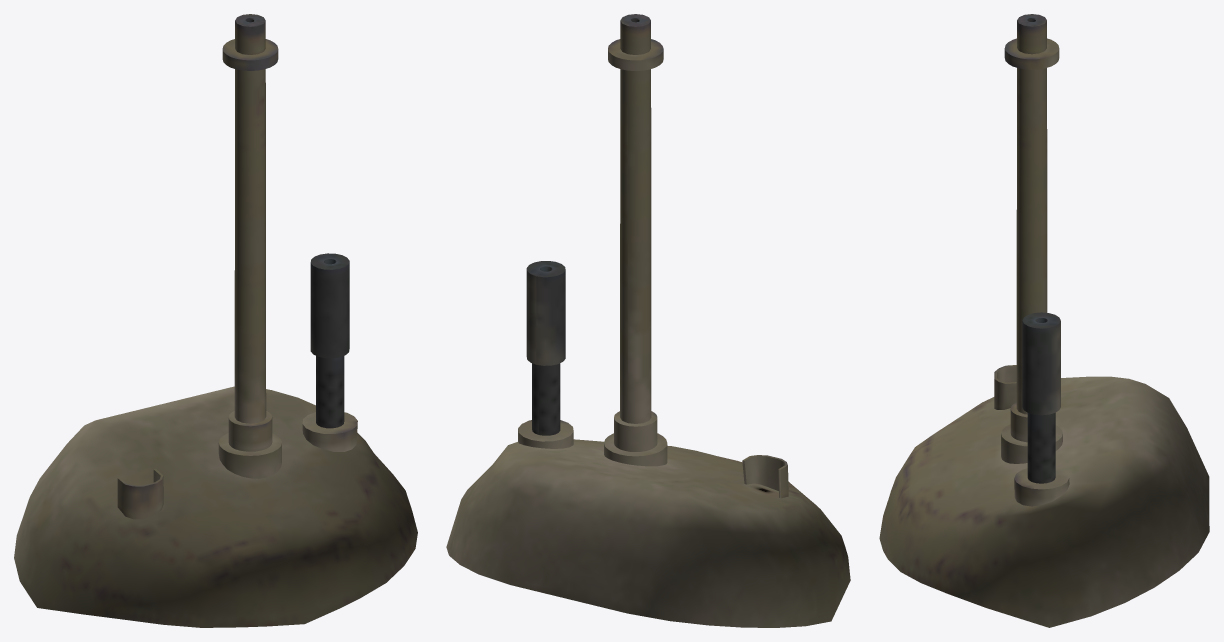
File: Gun_03.glb
3 views of the same model, side by side, from view 1: azimuth 30°, elevation 25°; view 2: azimuth 150°, elevation 25°; view 3: azimuth 270°, elevation 25° (orthographic). The views are drawn at different scales.
Visible parts, largest first — view 1: set_0_group_0; view 2: set_0_group_0; view 3: set_0_group_0.
Boxes of the visible parts, x1,y1,x2,y2 form: set_0_group_0: (14, 14, 417, 627); set_0_group_0: (446, 14, 850, 627); set_0_group_0: (879, 14, 1209, 627).
Bounding box in the file's own units: 0.5694 × 0.8241 × 0.4599.
1 material, 1 textured.
